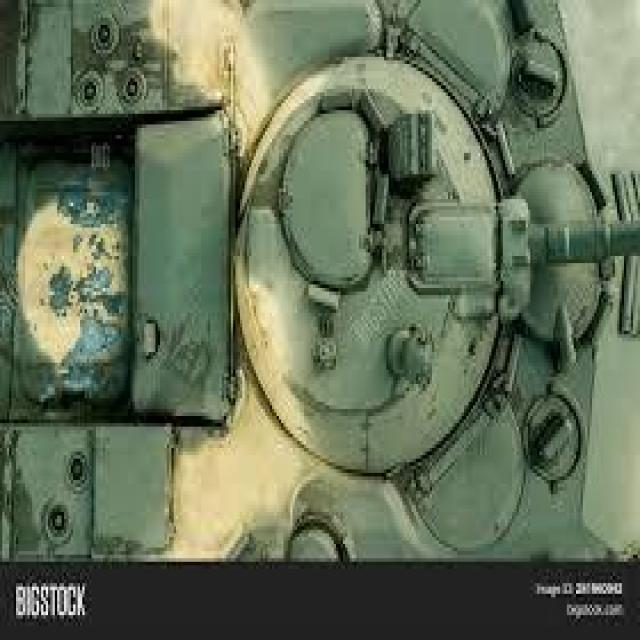Tanks: (2, 4, 578, 572)
